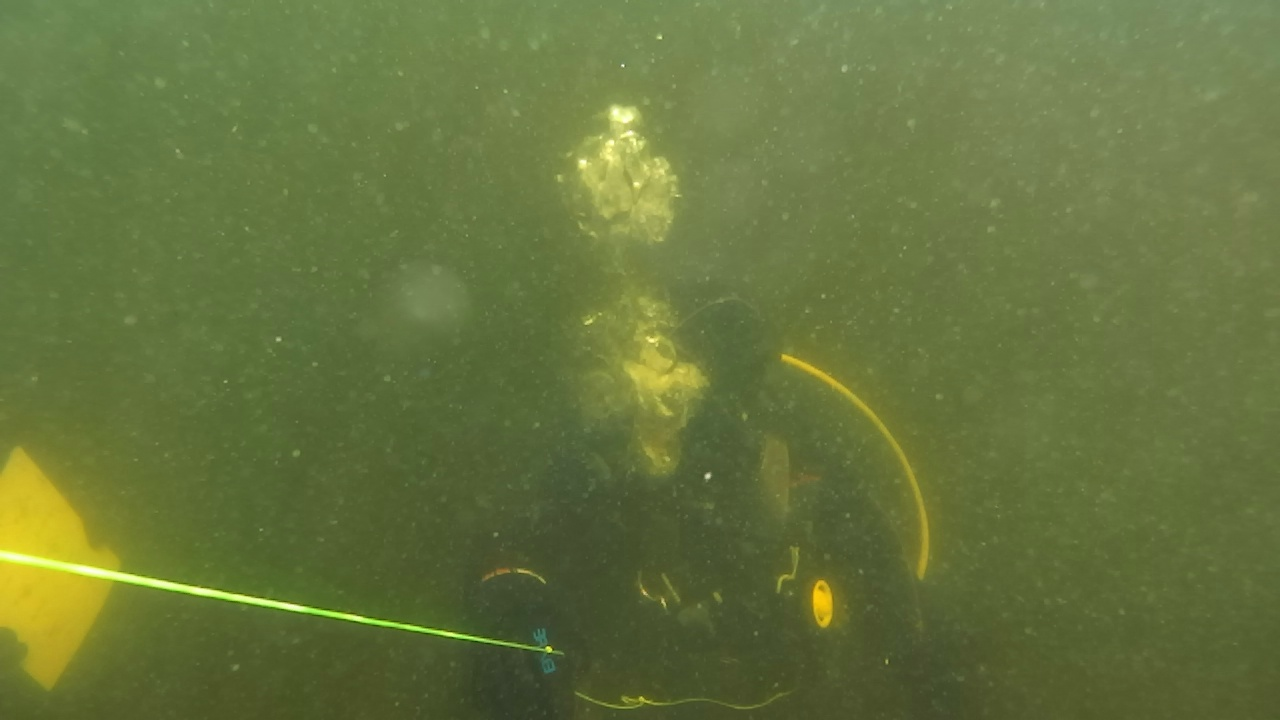Diver: (424, 260, 1022, 718)
Hand: (458, 546, 564, 706)
Head: (592, 282, 710, 482)
